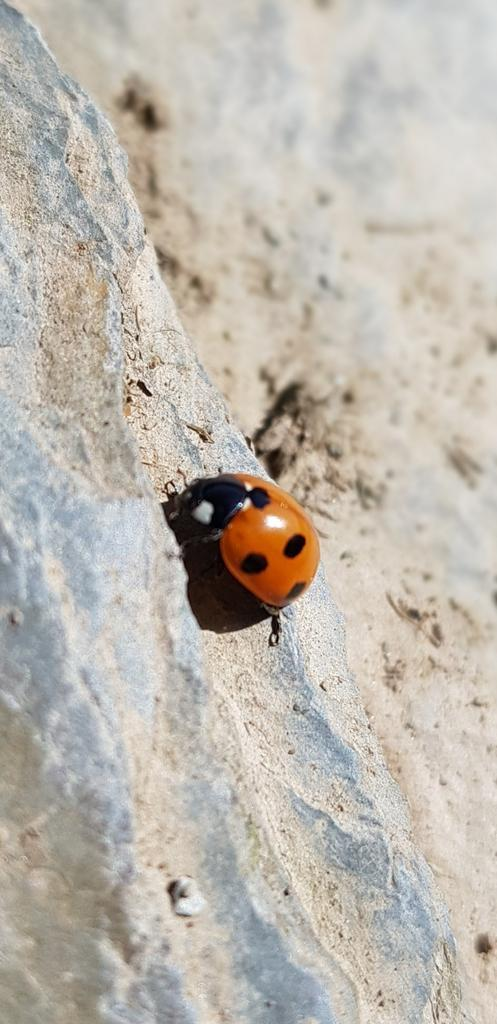ladybug: (154, 466, 329, 646)
